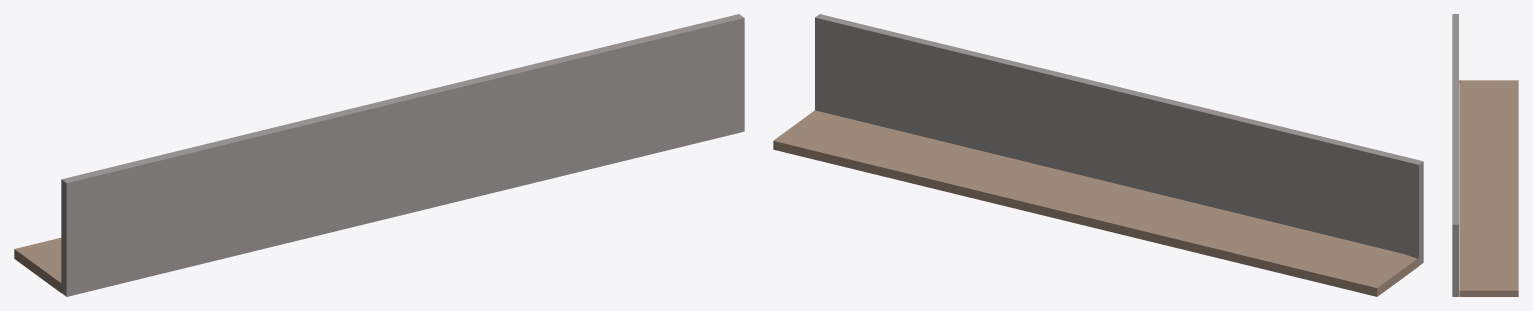
The model's file is school2.fbx.
The picture shows the model from 3 angles, left to right: view 1: azimuth 30°, elevation 25°; view 2: azimuth 150°, elevation 25°; view 3: azimuth 270°, elevation 25°; orthographic projection. The views are drawn at different scales.
Visible parts, largest first — view 1: 立方体, 床.001; view 2: 立方体, 床.001; view 3: 床.001, 立方体.
Part boxes in pixels (x1=…): 立方体: x1=61, y1=14, x2=744, y2=296; 床.001: x1=14, y1=237, x2=61, y2=292; 立方体: x1=815, y1=14, x2=1423, y2=265; 床.001: x1=773, y1=110, x2=1418, y2=296; 床.001: x1=1459, y1=80, x2=1518, y2=296; 立方体: x1=1452, y1=14, x2=1458, y2=296.
Bounding box in the file's own units: 3592 × 577 × 480.
